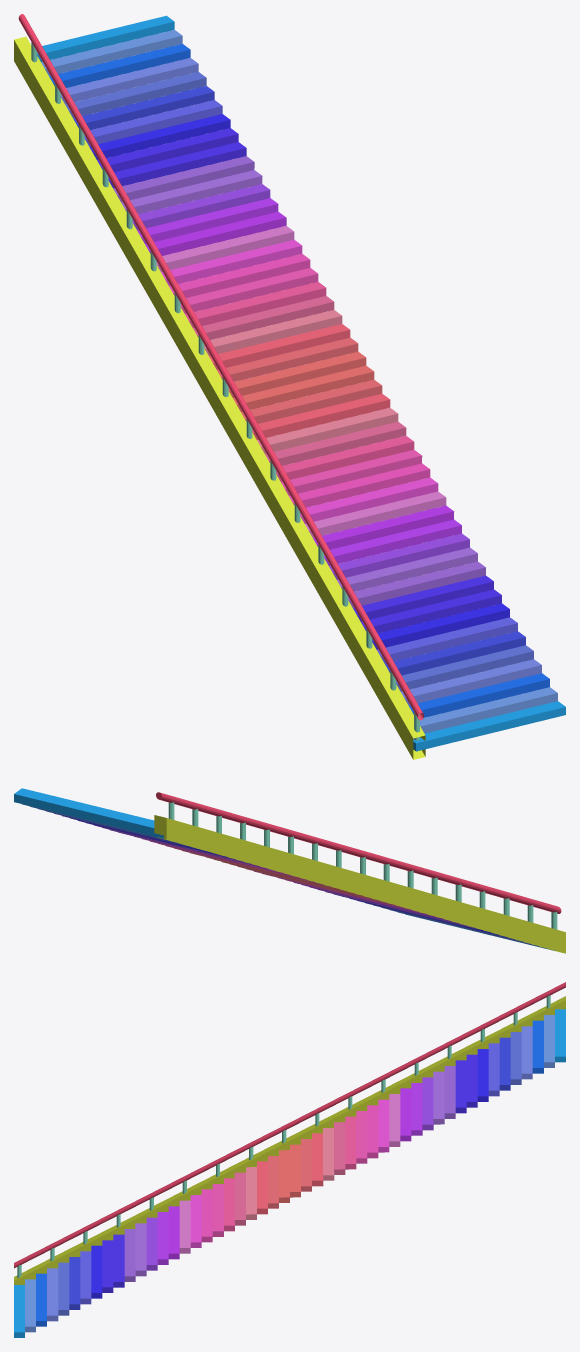
The model's file is Stairs3.fbx.
The picture shows the model from 3 angles, top to bottom: view 1: azimuth 30°, elevation 25°; view 2: azimuth 150°, elevation 25°; view 3: azimuth 270°, elevation 25°; orthographic projection. The views are drawn at different scales.
Parts seen in each view (by area): view 1: Cube.037; view 2: Cube.037; view 3: Cube.037.
Part boxes in pixels (bbox=[...]): Cube.037: bbox=[14, 14, 565, 759]; Cube.037: bbox=[14, 788, 565, 953]; Cube.037: bbox=[14, 982, 565, 1337].
Bounding box in the file's own units: 2.46 × 6.96 × 11.15.
